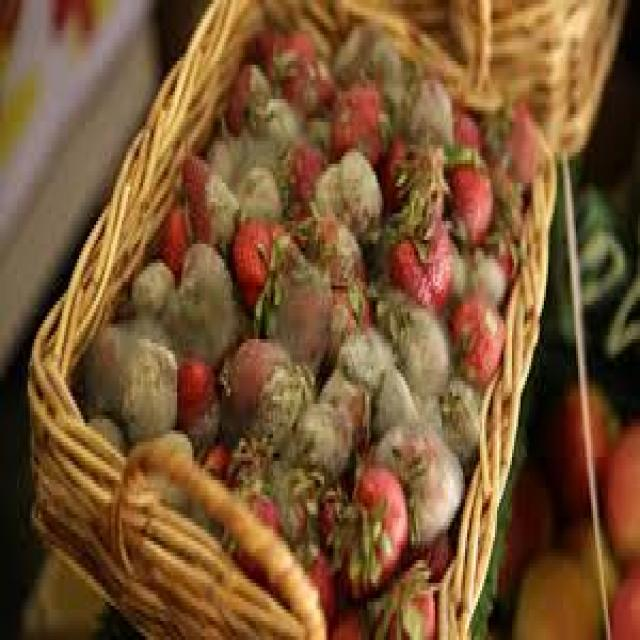organic waste: (83, 324, 177, 438), (540, 377, 618, 514), (254, 225, 331, 358), (378, 419, 467, 533), (218, 331, 303, 442), (342, 454, 408, 594), (508, 545, 599, 636), (497, 461, 553, 602), (230, 213, 296, 328), (17, 545, 100, 636), (175, 240, 237, 358), (386, 202, 452, 308), (379, 126, 442, 236), (312, 144, 378, 248), (177, 148, 237, 252), (599, 416, 638, 572), (369, 552, 437, 636), (230, 476, 278, 591), (559, 514, 614, 614), (482, 96, 540, 190), (448, 290, 503, 384), (337, 312, 395, 400), (280, 133, 324, 248), (243, 19, 316, 88), (444, 141, 493, 240), (172, 351, 218, 454), (286, 396, 345, 476), (273, 461, 324, 549), (361, 358, 416, 438), (331, 76, 386, 156), (294, 526, 342, 617), (429, 373, 480, 457), (314, 358, 367, 438), (364, 30, 410, 122), (406, 61, 454, 145), (128, 251, 177, 324), (252, 88, 298, 164), (330, 8, 376, 80), (222, 53, 269, 122), (237, 160, 286, 221), (458, 240, 506, 301), (403, 514, 448, 579), (488, 148, 522, 232), (83, 400, 128, 461), (290, 54, 331, 114), (207, 122, 252, 175), (484, 213, 518, 282), (324, 583, 367, 636), (162, 202, 190, 270), (608, 579, 638, 636), (450, 92, 480, 148), (198, 434, 228, 480), (305, 103, 333, 141), (621, 556, 638, 583)
